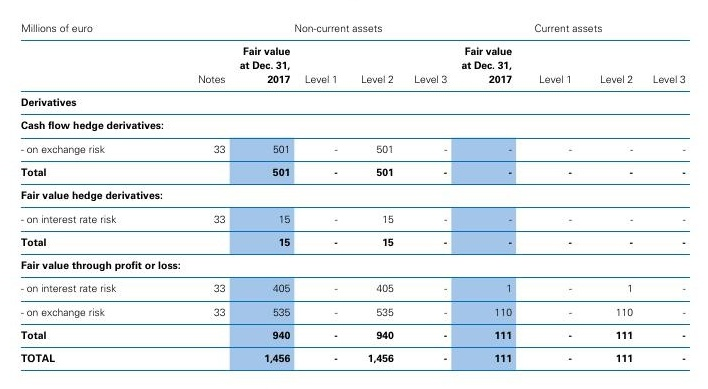table: (0, 0, 708, 389)
